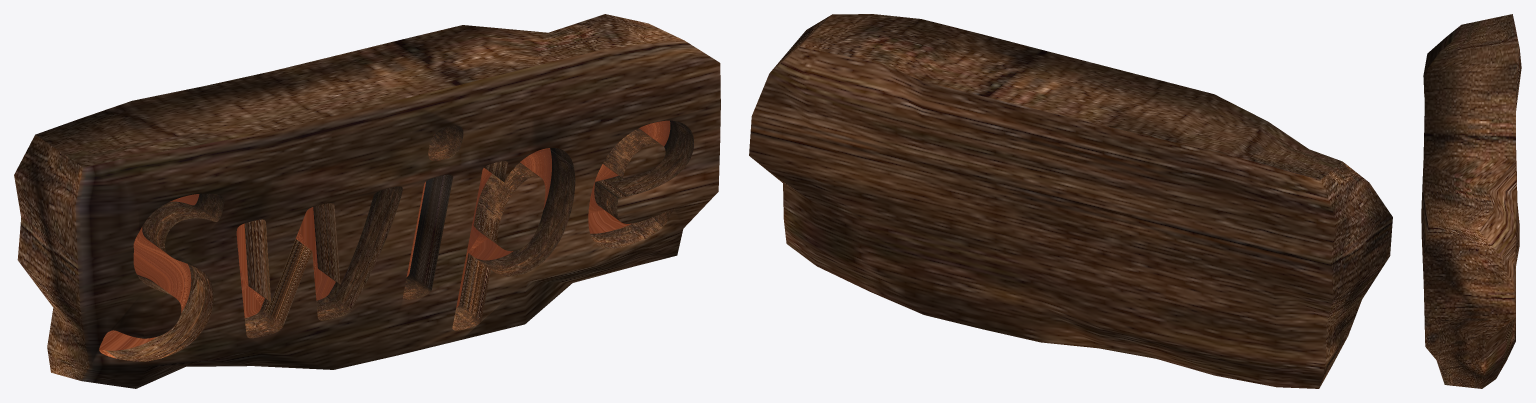
Rendered from swipe.glb.
3 views of the same model, side by side, from view 1: azimuth 30°, elevation 25°; view 2: azimuth 150°, elevation 25°; view 3: azimuth 270°, elevation 25° (orthographic). The views are drawn at different scales.
Visible parts, largest first — view 1: Cube; view 2: Cube; view 3: Cube.
Boxes of the visible parts, x1=… form: Cube: x1=14, y1=14, x2=720, y2=388; Cube: x1=749, y1=14, x2=1392, y2=388; Cube: x1=1421, y1=14, x2=1521, y2=388.
Bounding box in the file's own units: 2.02 × 0.7763 × 0.3839.
Materials: 2 (2 with a texture image).
